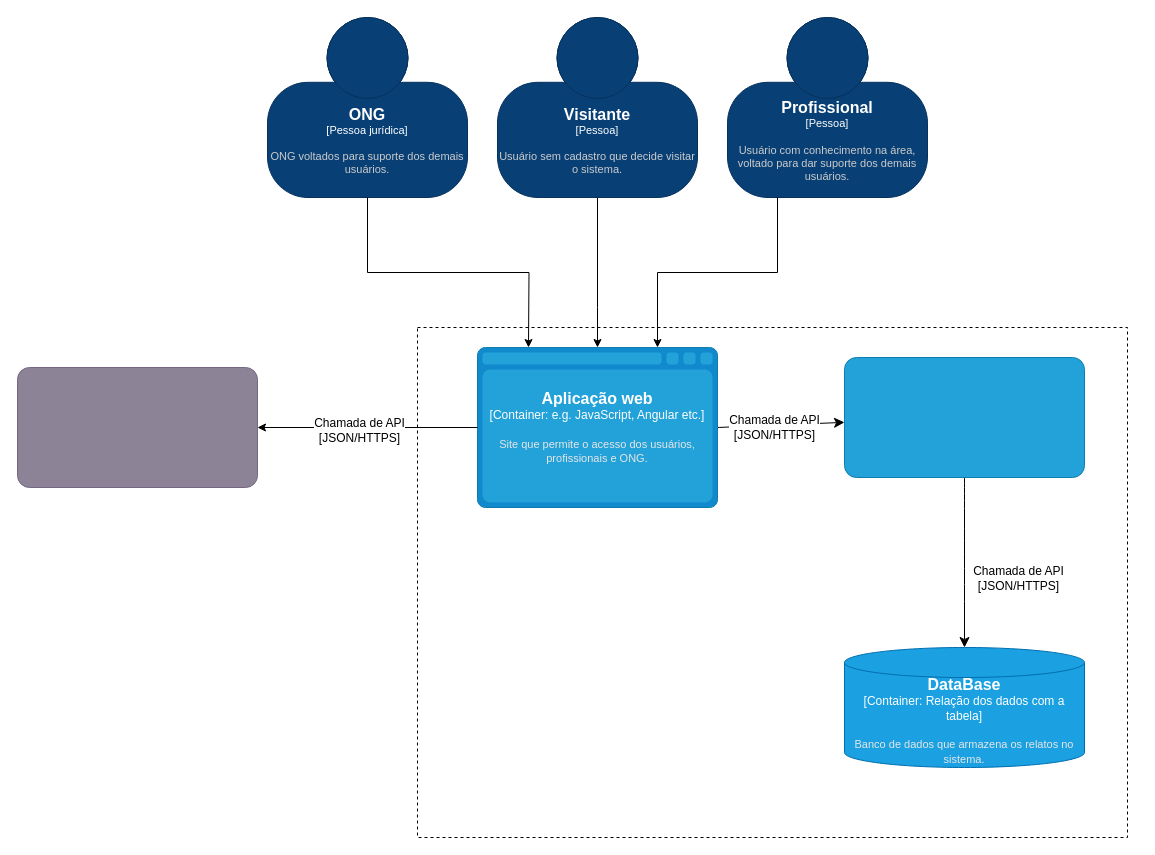
The diagram is 1155 pixels wide and 855 high, and some of its shapes have lost their labels. Each missing label, with the box of its shape:
API Externa [receitaWS] API para consulta de CNPJ cadastrados no Brasil: (16, 366, 258, 488)
Aplicação Backend [Container: Django REST] Sistema de backend: (844, 356, 1084, 478)
